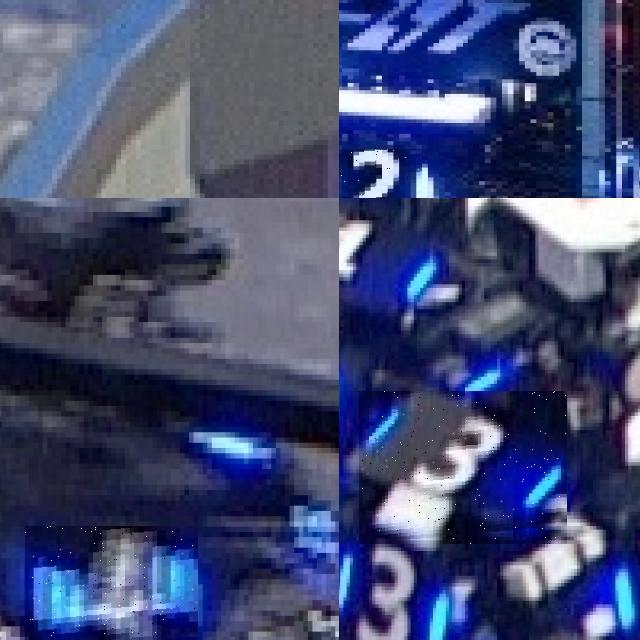B2: (339, 148, 427, 198)
B3: (360, 391, 568, 544), (339, 540, 455, 640), (612, 515, 640, 639)
B4: (24, 526, 198, 640)
